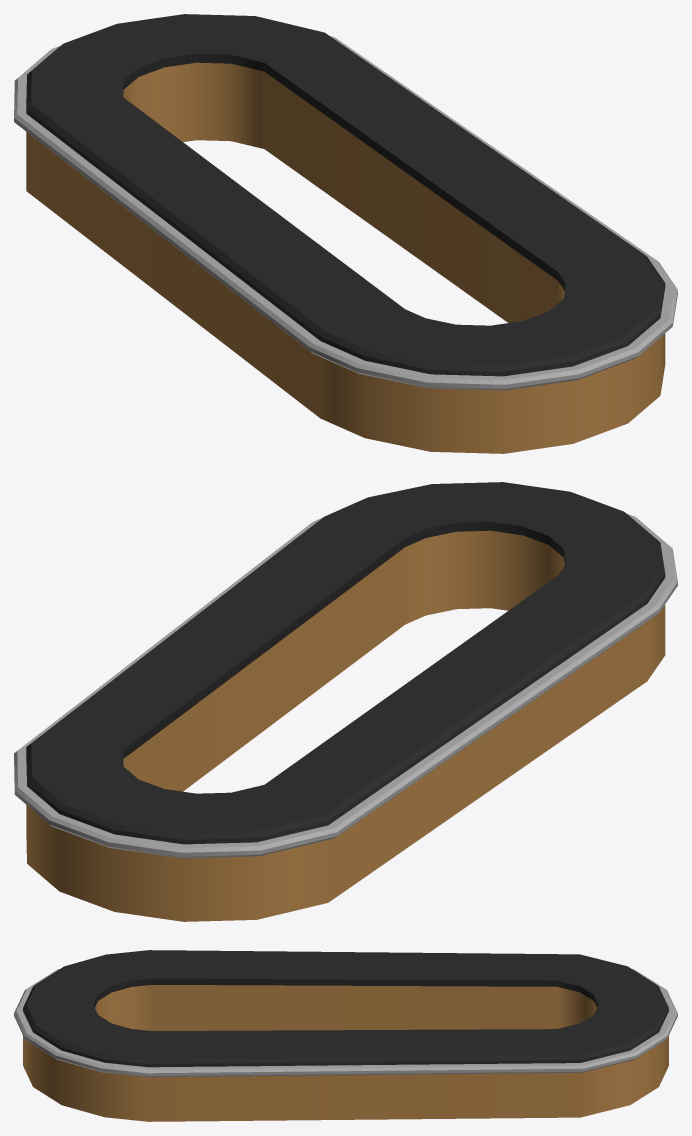
The model's file is Coincraft_Conveyer_Belt.fbx.
3 renders of one model, top to bottom at view 1: azimuth 30°, elevation 25°; view 2: azimuth 150°, elevation 25°; view 3: azimuth 270°, elevation 25°, orthographic. The views are drawn at different scales.
Parts seen in each view (by area): view 1: pCylinder1; view 2: pCylinder1; view 3: pCylinder1.
Part boxes in pixels (box(x1,y1,x2,y2)): pCylinder1: box(14, 14, 677, 453); pCylinder1: box(14, 482, 677, 921); pCylinder1: box(14, 950, 677, 1121).
Size of the model in its own units: 292 by 69.18 by 684.
